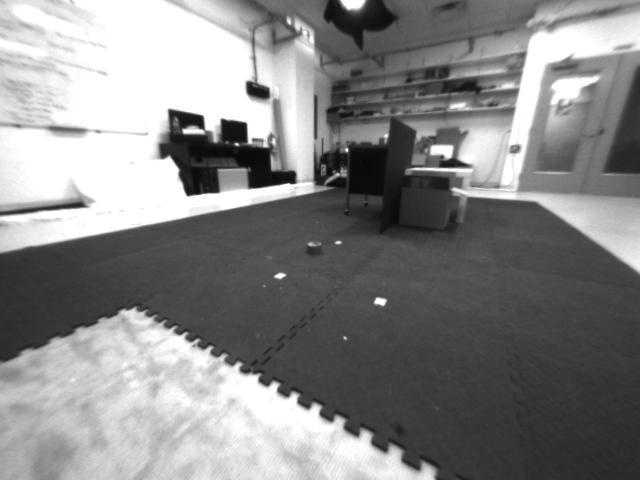dogtoy: (293, 233, 331, 267)
